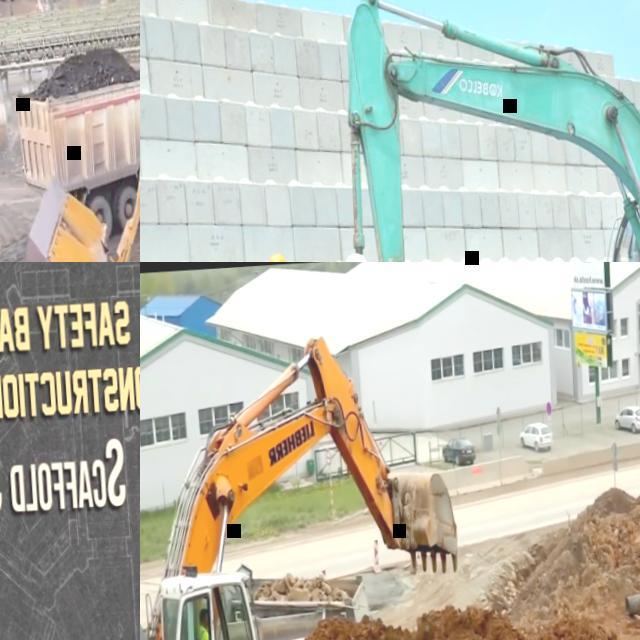helmet: (342, 249, 370, 262), (266, 252, 286, 262)
vest: (197, 626, 210, 640)
